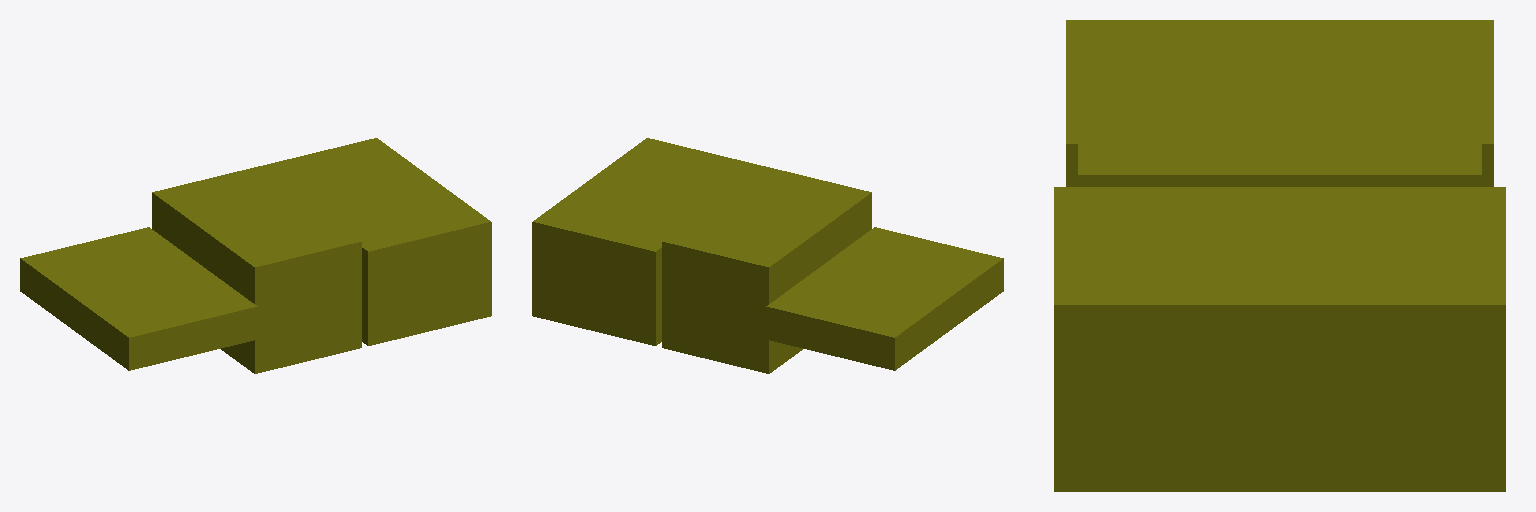
robot.urdf — block:
<robot name="block">
  
  <link name="block1">
    <visual>
      <origin xyz="0.0 0.0 0.0" rpy="0 0 0"/>
      <geometry>
        <box size="0.05724703805514219 0.08372243699457621 0.014088676673364454"/>
      </geometry>
      <material name="dark_yellow">
        <color rgba="0.5 0.5 0.1 1"/>
      </material>
    </visual> 
    <collision>
      <origin xyz="0.0 0.0 0.0" rpy="0 0 0"/>
      <geometry>
        <box size="0.05724703805514219 0.08372243699457621 0.014088676673364454"/>
      </geometry>
    </collision>
    <inertial>
      <mass value="1.3105353715412345"/>
      <inertia ixx="0.0007871880619902817" ixy="0" ixz="0" iyy="0.00037958719747183725" iyz="0" izz="0.0011234203881348292"/>
    </inertial>
  </link>

  <link name="block2">
    <visual>
      <origin xyz="0.0 0.0 0.0" rpy="0 0 0"/>
      <geometry>
        <box size="0.04788454182418783 0.07925622411491724 0.04537489847674032"/>
      </geometry>
      <material name="dark_yellow">
        <color rgba="0.5 0.5 0.1 1"/>
      </material>
    </visual> 
    <collision>
      <origin xyz="0.0 0.0 0.0" rpy="0 0 0"/>
      <geometry>
        <box size="0.04788454182418783 0.07925622411491724 0.04537489847674032"/>
      </geometry>
    </collision>
    <inertial>
      <mass value="0.24037291070814293"/>
      <inertia ixx="0.00016706779577405312" ixy="0" ixz="0" iyy="8.717145155234422e-05" iyz="0" izz="0.00017175602770120983"/>
    </inertial>
  </link>

  <link name="block3">
    <visual>
      <origin xyz="0.0 0.0 0.0" rpy="0 0 0"/>
      <geometry>
        <box size="0.05482620199132192 0.08849115172456566 0.040233062892616835"/>
      </geometry>
      <material name="dark_yellow">
        <color rgba="0.5 0.5 0.1 1"/>
      </material>
    </visual> 
    <collision>
      <origin xyz="0.0 0.0 0.0" rpy="0 0 0"/>
      <geometry>
        <box size="0.05482620199132192 0.08849115172456566 0.040233062892616835"/>
      </geometry>
    </collision>
    <inertial>
      <mass value="1.3105353715412345"/>
      <inertia ixx="0.001031979252663705" ixy="0" ixz="0" iyy="0.0005050597758456098" iyz="0" izz="0.0011834785695592303"/>
    </inertial>
  </link>

  <joint name="block_link1" type="fixed">
    <parent link="block1"/>
    <child link="block2"/>
    <origin xyz="0.052565789939665014 0.0 0.0"/>
  </joint>

  <joint name="block_link2" type="fixed">
    <parent link="block2"/>
    <child link="block3"/>
    <origin xyz="0.051355371907754875 0.0 0.0"/>
  </joint>

</robot>

--- Render facts (derived) ---
3 views of the same robot in one strip: view 1: azimuth 30°, elevation 25°; view 2: azimuth 150°, elevation 25°; view 3: azimuth 270°, elevation 25° (orthographic).
Model block with 3 links and 2 joints (2 fixed), rooted at block1, posed every joint at zero.
Links seen in each view (by area): view 1: block2, block3, block1; view 2: block2, block3, block1; view 3: block3, block2, block1.
Link boxes in pixels (x1=…): block2: x1=152, y1=166, x2=361, y2=373; block3: x1=260, y1=138, x2=491, y2=345; block1: x1=20, y1=227, x2=257, y2=370; block2: x1=662, y1=166, x2=871, y2=373; block3: x1=532, y1=138, x2=763, y2=345; block1: x1=766, y1=227, x2=1003, y2=370; block3: x1=1054, y1=187, x2=1505, y2=491; block2: x1=1078, y1=72, x2=1481, y2=186; block1: x1=1066, y1=20, x2=1493, y2=186.
Bounding box of the posed robot: 0.16 × 0.0885 × 0.0454 m (x, y, z).
Geometry: primitives only (box / cylinder / sphere), no mesh files.